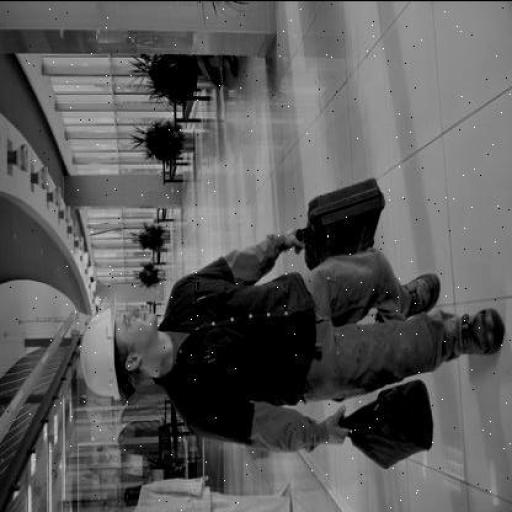person: (84, 184, 504, 484)
safety_shoe: (453, 295, 505, 378), (371, 276, 444, 318)
